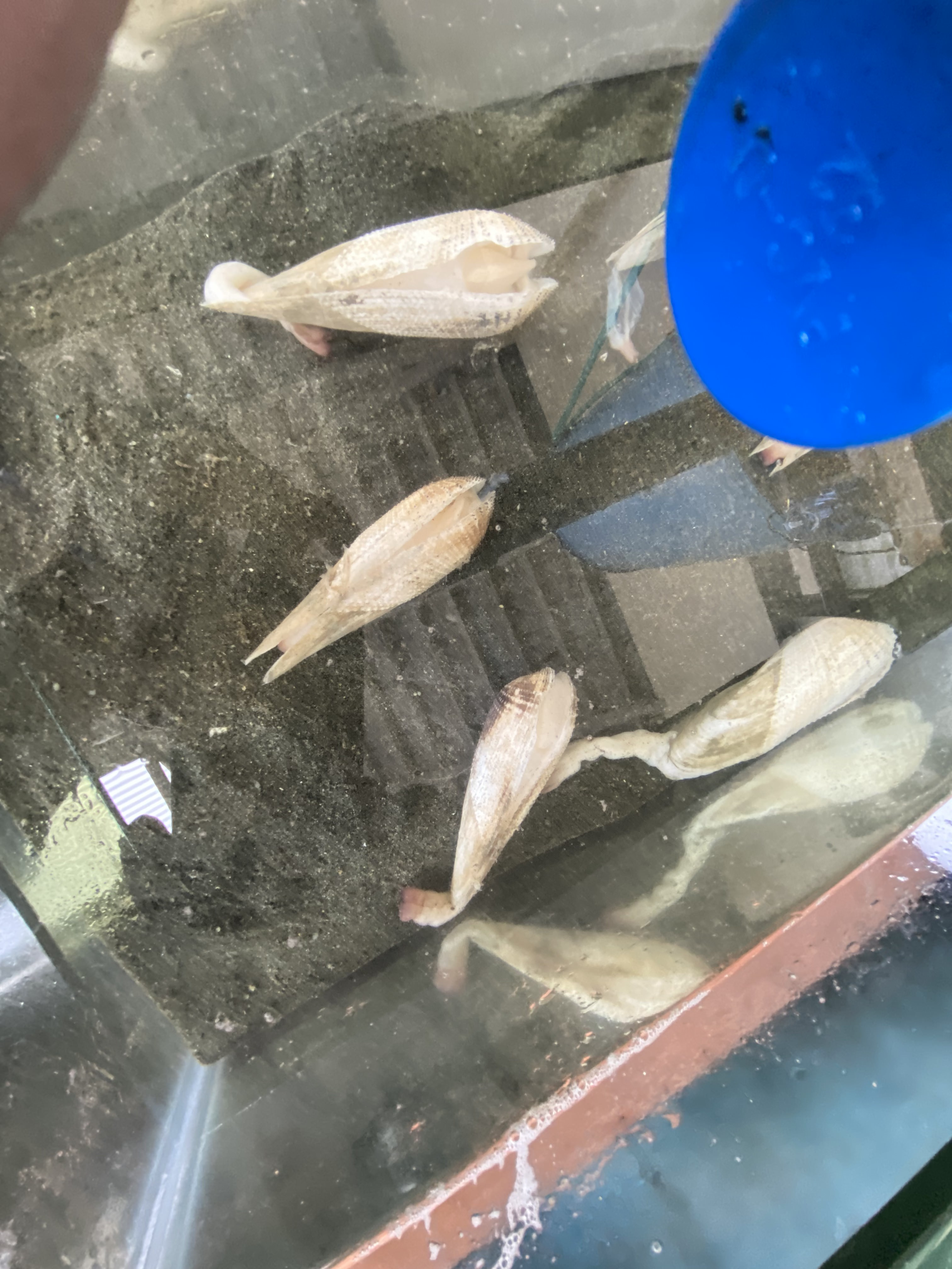At risk: (549, 618, 895, 788), (245, 476, 494, 683), (204, 210, 557, 347), (400, 668, 575, 925), (606, 211, 665, 361), (751, 437, 810, 472)
